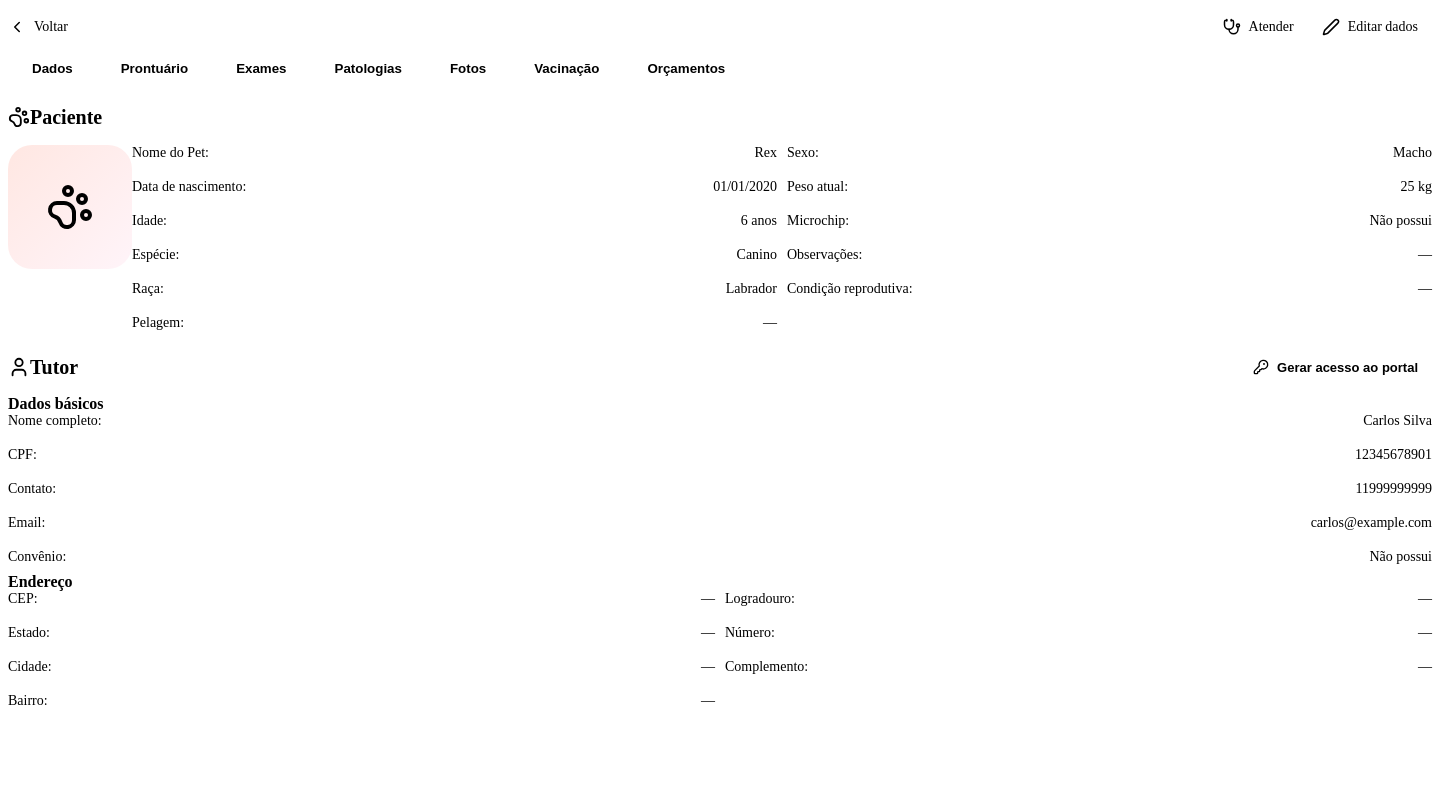
it: PatientDetailsPage — Aba Exames e Classificação Clínica › exibe a lista de exames com badges de tipo clínico e lida com exames antigos sem tipo
Check: the text "Rex" is shown, box [754,145,777,161]
Note: Click on "Exames" tab
Click the button "Exames": (261, 68) [212,47,310,90]
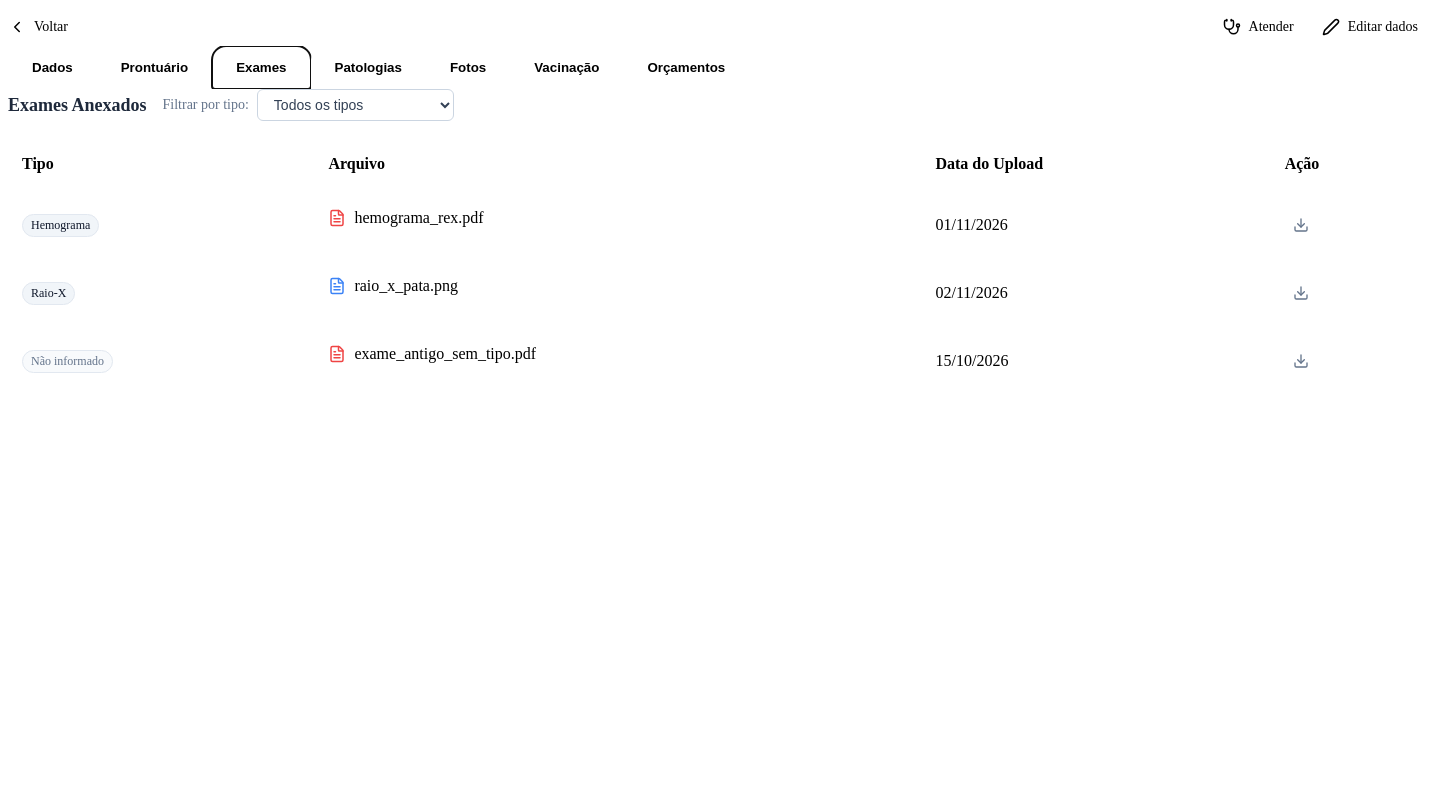
Check: the column heading "Tipo" is shown, box [8,137,314,191]
Check: the column heading "Arquivo" is shown, box [314,137,922,191]
Check: the column heading "Data do Upload" is shown, box [922,137,1271,191]
